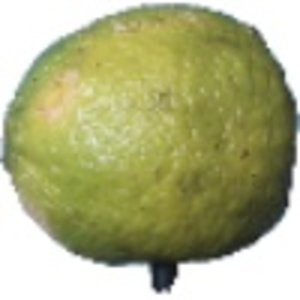limão: (1, 3, 300, 293)
